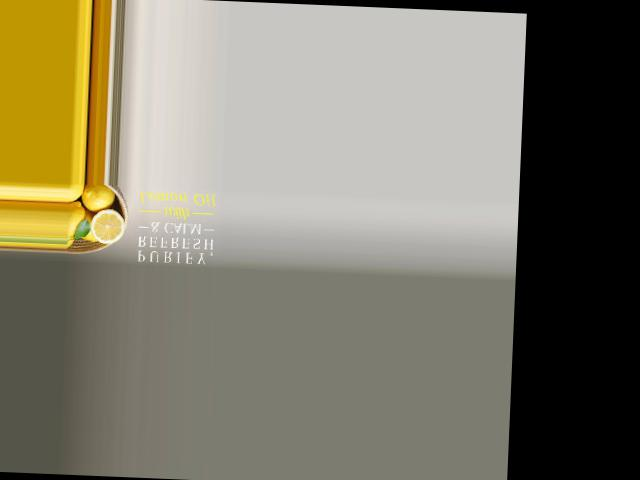lemon: (81, 182, 113, 213)
